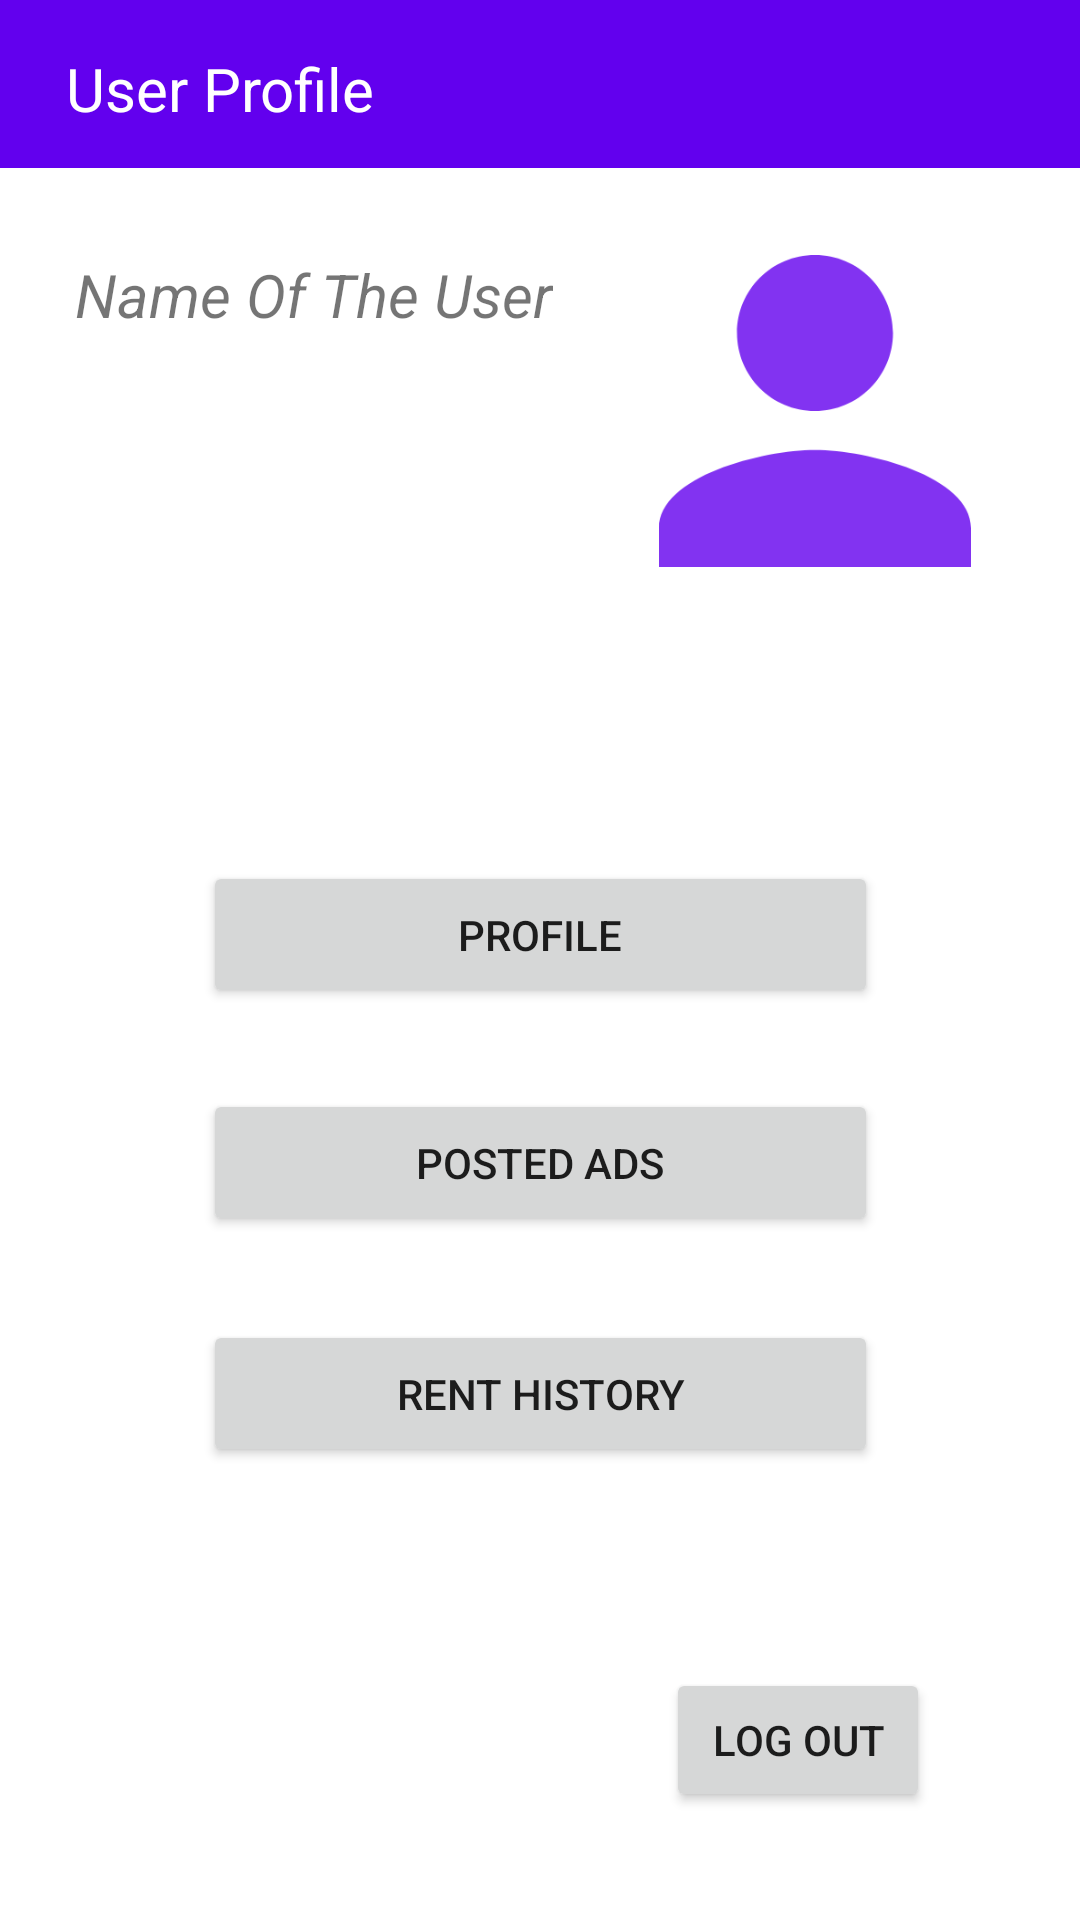

Named icons in this screenshot (1080×1920) and their centers, (x=x, y=y):
profiletemp: (x=815, y=411)
